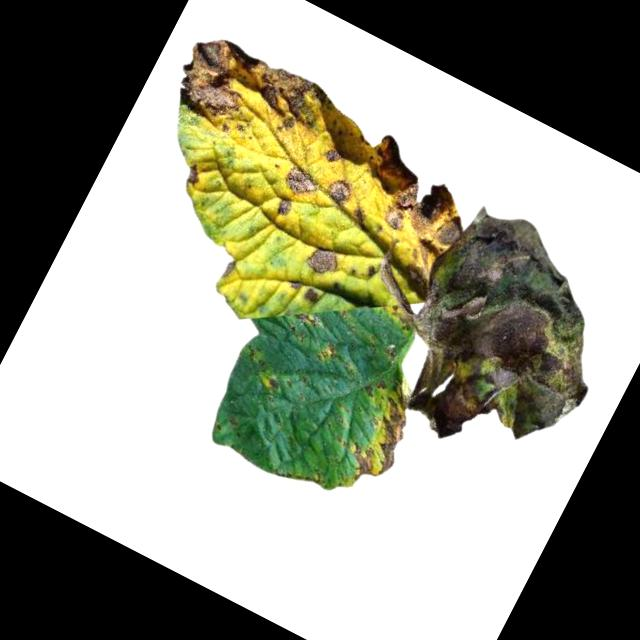Early_blight: (360, 188, 640, 487), (159, 22, 337, 171), (345, 132, 486, 265), (340, 378, 427, 493), (277, 163, 323, 204), (302, 239, 344, 281), (322, 176, 355, 209), (181, 160, 205, 187), (298, 285, 325, 308), (272, 194, 295, 220), (321, 145, 343, 167), (261, 376, 282, 395)
